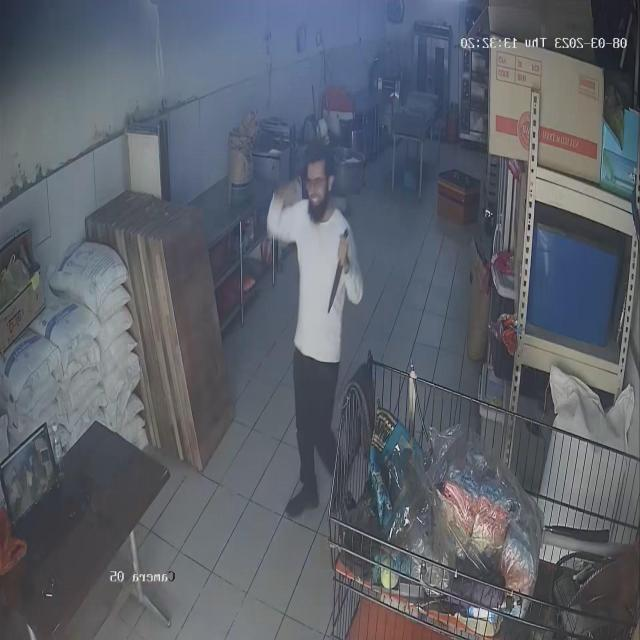Knife: (326, 226, 362, 321)
